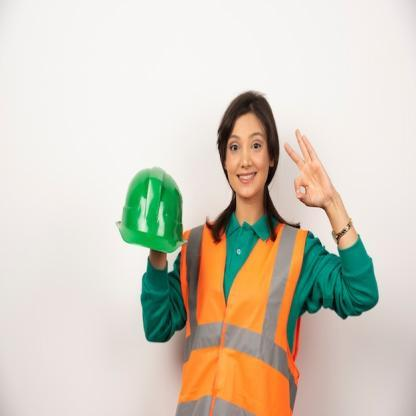ok: (278, 124, 338, 212)
